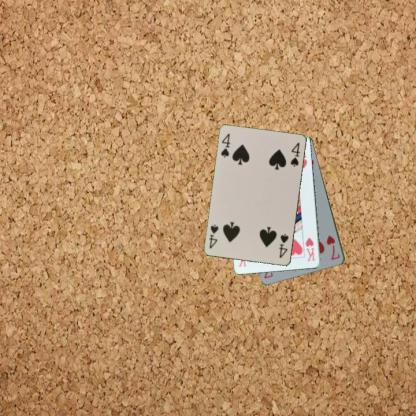4s: (276, 231, 290, 260), (218, 131, 232, 159)
7h: (324, 232, 341, 262)
Kh: (302, 235, 316, 262)
